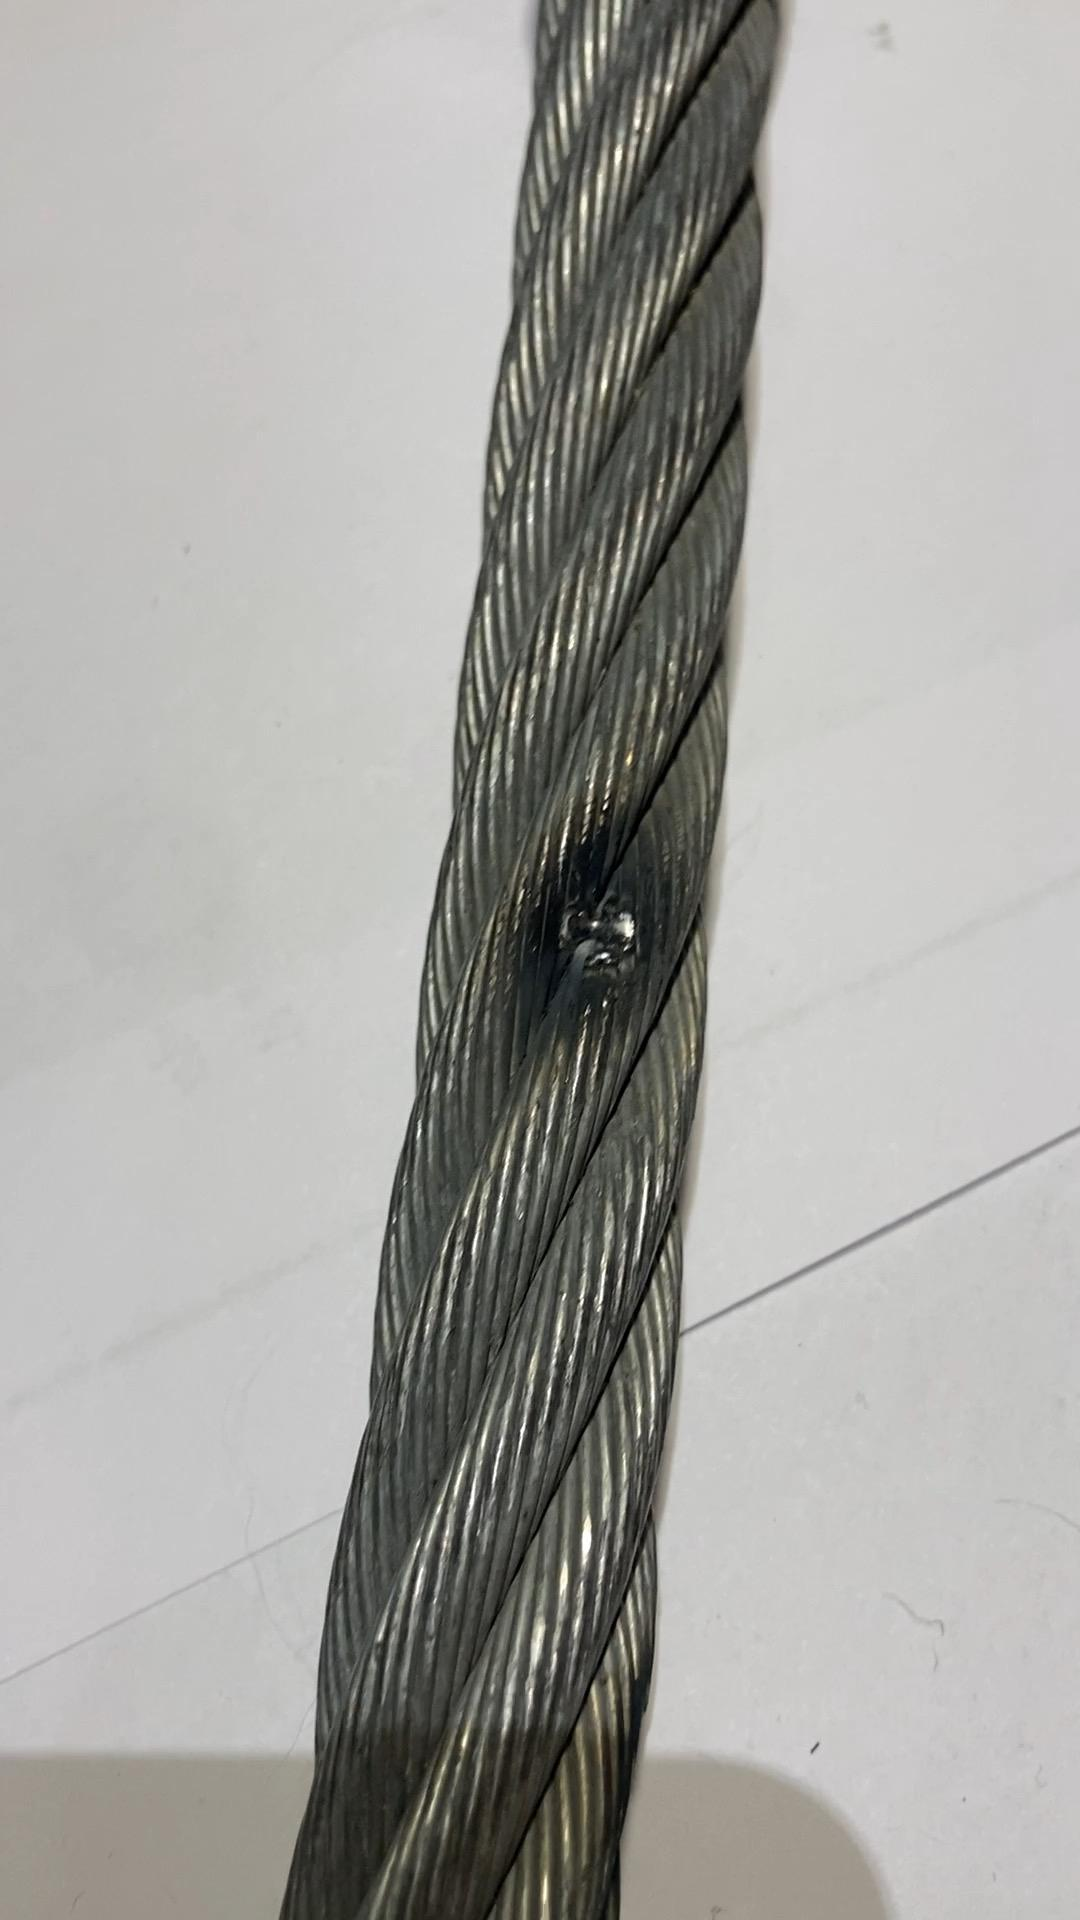thunderbolt: (506, 835, 676, 1015)
